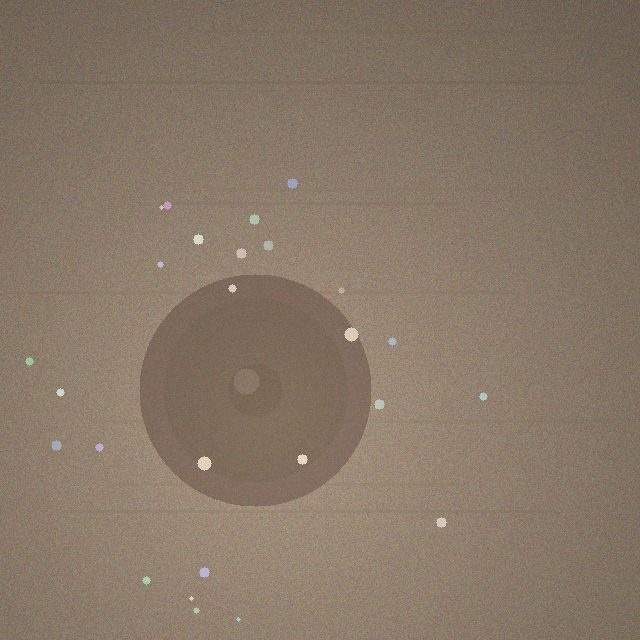overburn: (139, 274, 371, 506)
